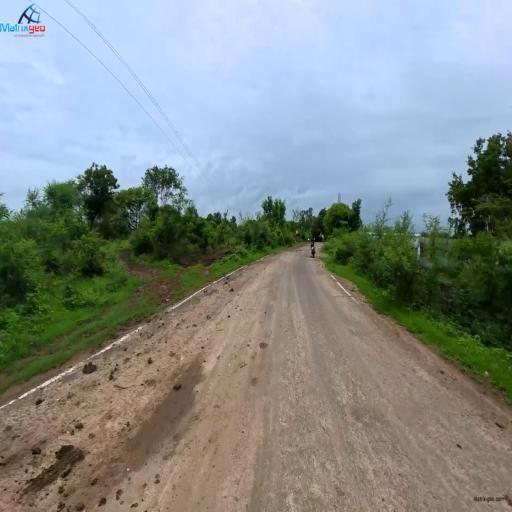ravelling: (284, 340, 401, 485)
